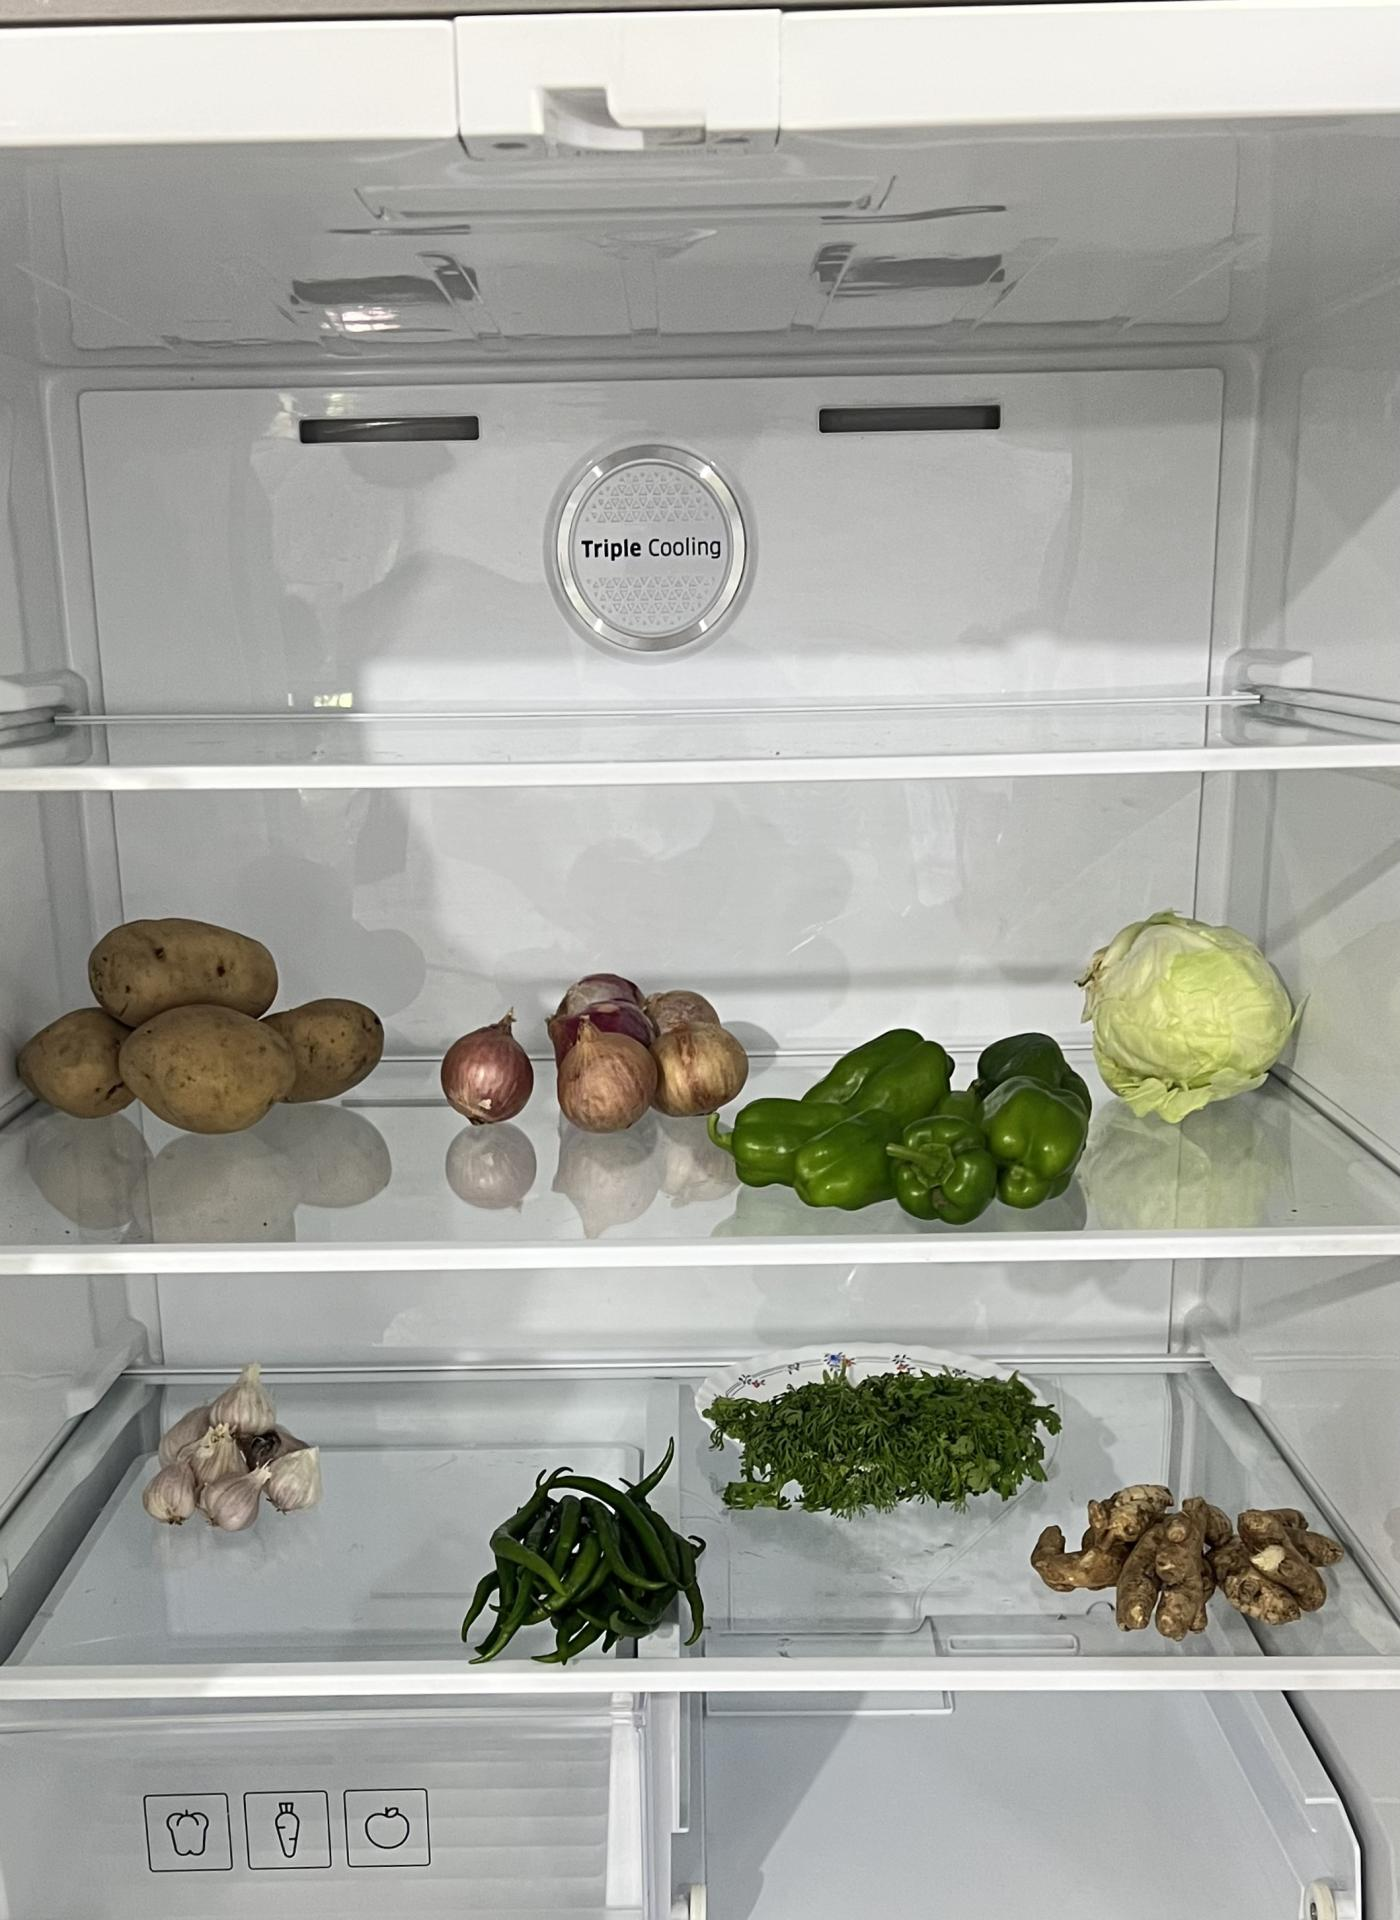cabbage: (1088, 912, 1291, 1111)
capsicum: (732, 1027, 1093, 1227)
chillies: (474, 1459, 711, 1643)
coriander: (719, 1355, 1053, 1504)
garlic: (148, 1368, 324, 1529)
ginger: (1038, 1482, 1346, 1638)
onion: (437, 969, 751, 1130)
potato: (19, 914, 385, 1134)
